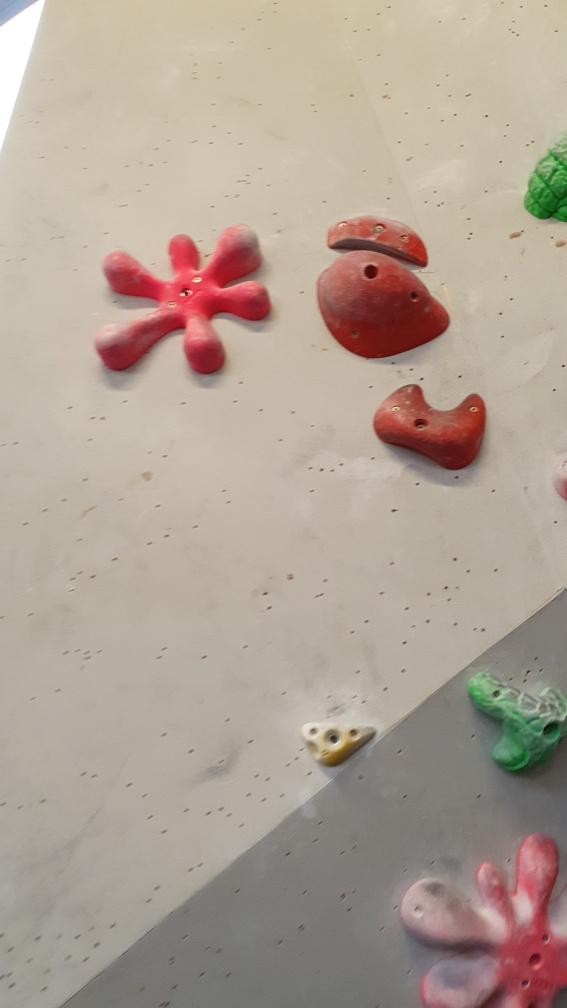Octopus Pinch: (397, 829, 565, 1007), (91, 220, 276, 379)
